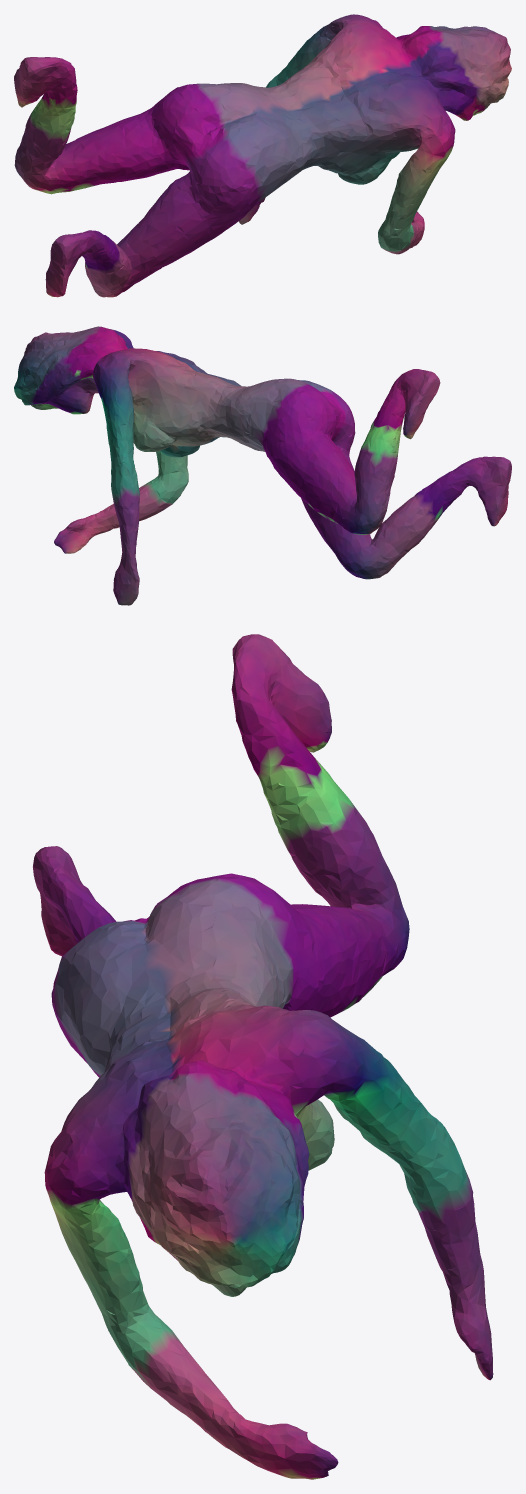
The model's file is woman-3.off.obj.
3 renders of one model, top to bottom at view 1: azimuth 30°, elevation 25°; view 2: azimuth 150°, elevation 25°; view 3: azimuth 270°, elevation 25°, orthographic. The views are drawn at different scales.
Bounding box in the file's own units: 1.68 × 0.9102 × 0.7484.
